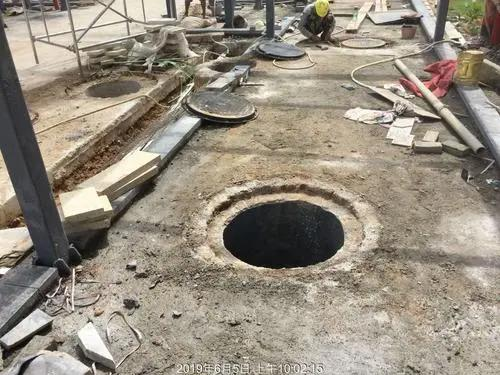wellcover: (198, 181, 376, 279)
